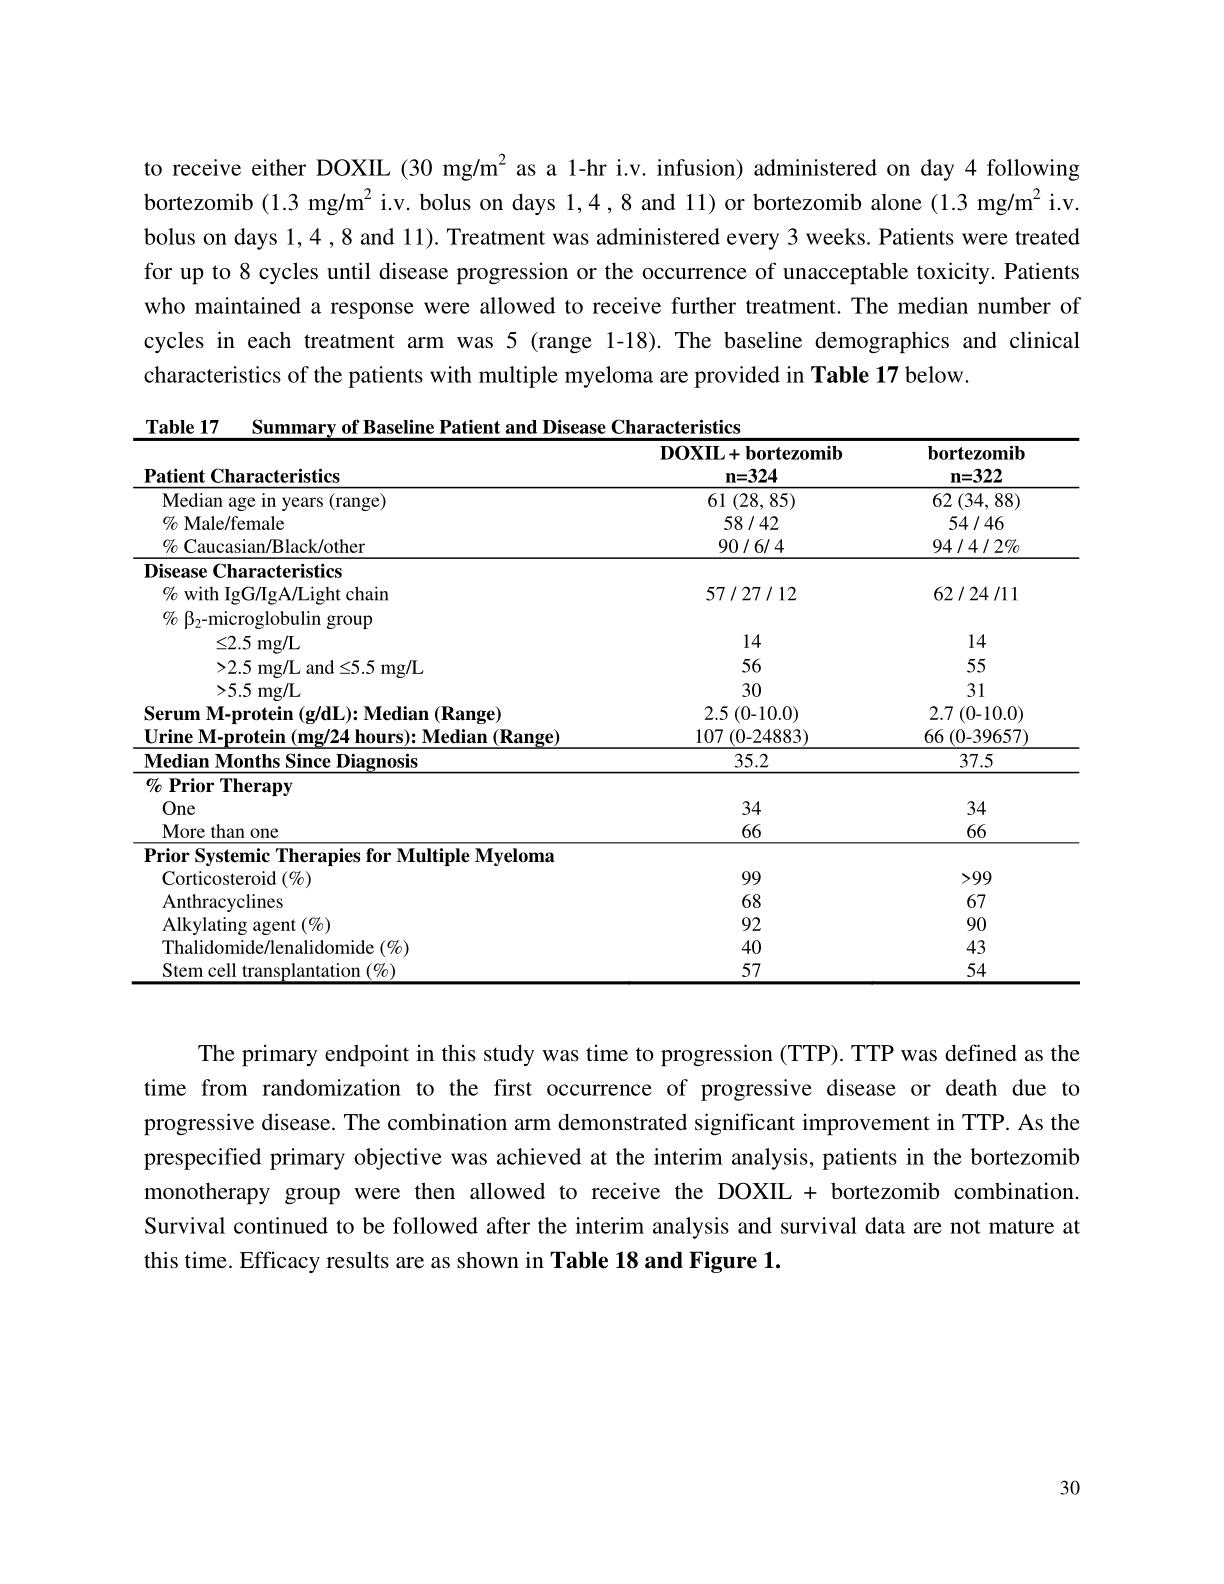partial_lined_merged_cells: (131, 436, 1081, 985)
